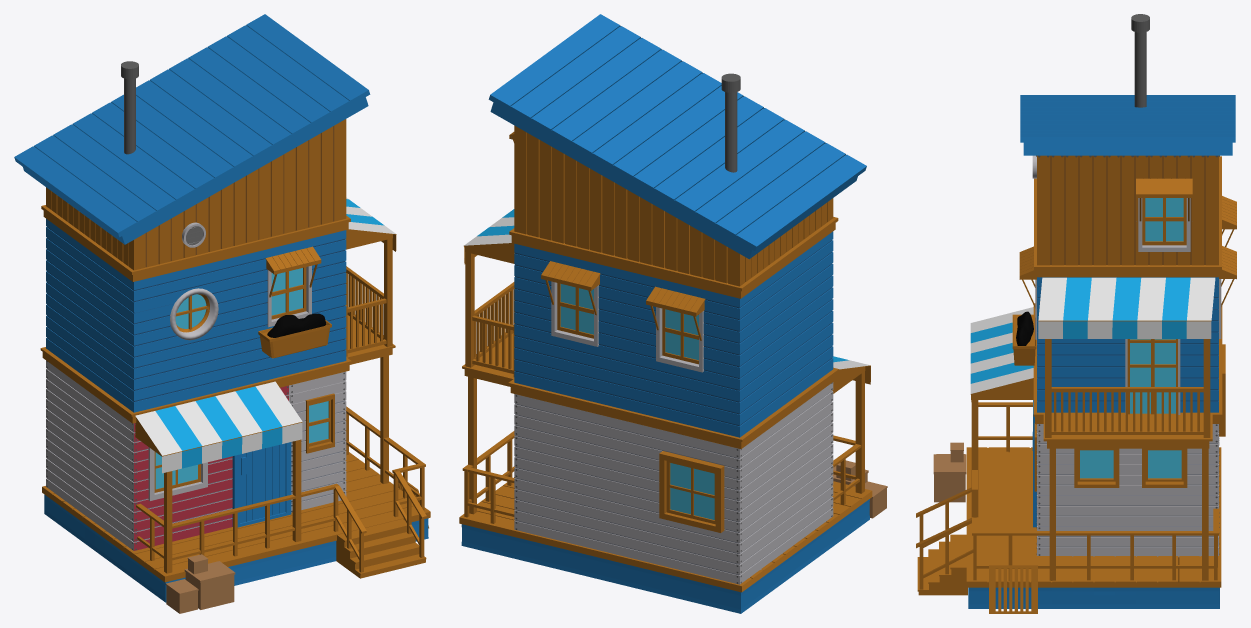
Rendered from HouseProject.fbx.
3 views of the same model, side by side, from view 1: azimuth 30°, elevation 25°; view 2: azimuth 150°, elevation 25°; view 3: azimuth 270°, elevation 25° (orthographic). The views are drawn at different scales.
Visible parts, largest first — view 1: Floor3, Floor2, Floor1, Floor, Pergola, PergolaWithFence, Stair, Plant, Pergola2, Fence-2, Box, Fence-4 (+4 smaller); view 2: Floor3, Floor2, Floor1, Floor, PergolaWithFence, Pergola2, Pergola, Fence-4, Fence-5, Fence-3; view 3: Floor3, Floor1, Floor, Floor2, PergolaWithFence, Pergola2, Pergola, Fence-4, Stair, Wood, Box, Plant (+3 smaller).
Boxes of the visible parts, box(x1,y1,x2,y2) form: Floor3: box(14, 14, 370, 270); Floor2: box(41, 205, 350, 412); Floor1: box(40, 347, 351, 550); Floor: box(42, 452, 430, 602); Pergola: box(135, 381, 302, 573); PergolaWithFence: box(345, 197, 396, 356); Stair: box(336, 519, 426, 578); Plant: box(258, 313, 331, 358); Pergola2: box(346, 315, 395, 483); Fence-2: box(172, 494, 295, 560); Box: box(184, 561, 235, 609); Fence-4: box(345, 406, 422, 498); Floor3: box(488, 14, 866, 286); Floor2: box(509, 217, 838, 437); Floor1: box(508, 367, 838, 584); Floor: box(459, 477, 872, 613); PergolaWithFence: box(464, 209, 514, 376); Pergola2: box(462, 333, 514, 514); Pergola: box(832, 356, 870, 493); Fence-4: box(462, 431, 514, 517); Fence-5: box(467, 467, 514, 523); Fence-3: box(832, 444, 861, 505); Floor3: box(1020, 14, 1235, 265); Floor1: box(1032, 303, 1225, 557); Floor: box(966, 447, 1221, 608); Floor2: box(1019, 156, 1236, 414); PergolaWithFence: box(1038, 277, 1215, 437); Pergola2: box(1043, 414, 1212, 580); Pergola: box(970, 307, 1033, 517); Fence-4: box(976, 531, 1218, 580); Stair: box(917, 534, 967, 595); Wood: box(989, 565, 1037, 613); Box: box(933, 454, 966, 502); Plant: box(1012, 311, 1036, 365).
Size of the model in its own units: 2253 by 3382 by 2039.
